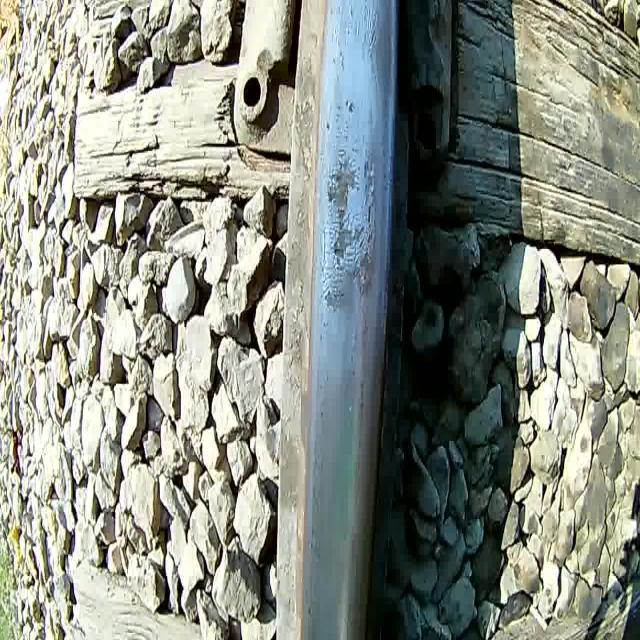Squats: (320, 142, 380, 316)
